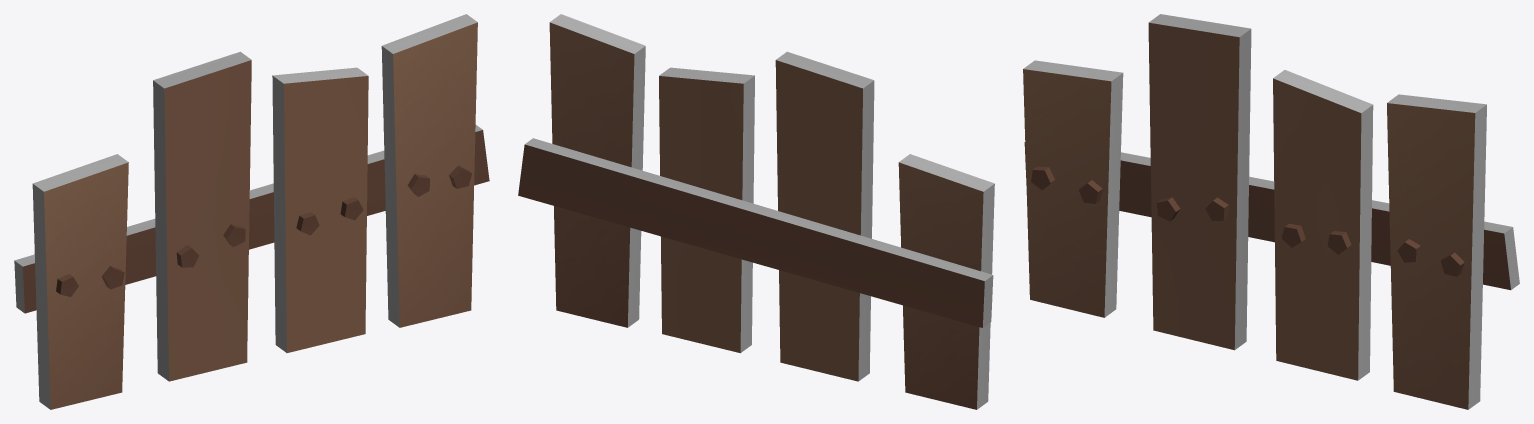
The model's file is paper wood fence 1.fbx.
3 renders of one model, left to right at view 1: azimuth 30°, elevation 25°; view 2: azimuth 150°, elevation 25°; view 3: azimuth 330°, elevation 25°, orthographic. The views are drawn at different scales.
Visible parts, largest first — view 1: Cube, Cube.003, Cube.001, Cube.002, Cube.004; view 2: Cube.004, Cube, Cube.003, Cube.001, Cube.002; view 3: Cube, Cube.003, Cube.001, Cube.002, Cube.004.
Part boxes in pixels (x1,y1,x2,y2): Cube: [153, 51, 251, 381]; Cube.003: [381, 14, 477, 327]; Cube.001: [272, 67, 368, 352]; Cube.002: [32, 154, 128, 409]; Cube.004: [14, 125, 489, 313]; Cube.004: [518, 138, 993, 327]; Cube: [775, 51, 874, 381]; Cube.003: [549, 14, 645, 327]; Cube.001: [659, 67, 754, 353]; Cube.002: [898, 154, 994, 409]; Cube: [1148, 14, 1251, 350]; Cube.003: [1387, 94, 1486, 409]; Cube.001: [1273, 70, 1373, 380]; Cube.002: [1023, 60, 1123, 317]; Cube.004: [1024, 142, 1519, 290].
Size of the model in its own units: 302 by 188 by 27.11.
